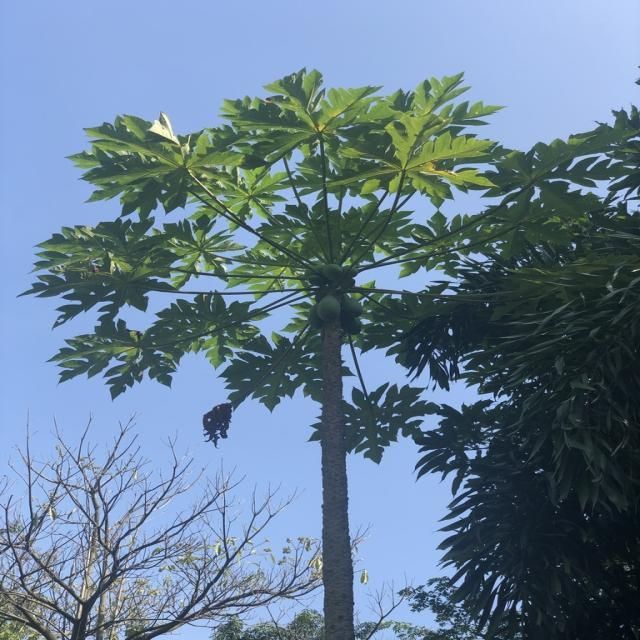Papaya-Tree: (42, 69, 530, 640)
